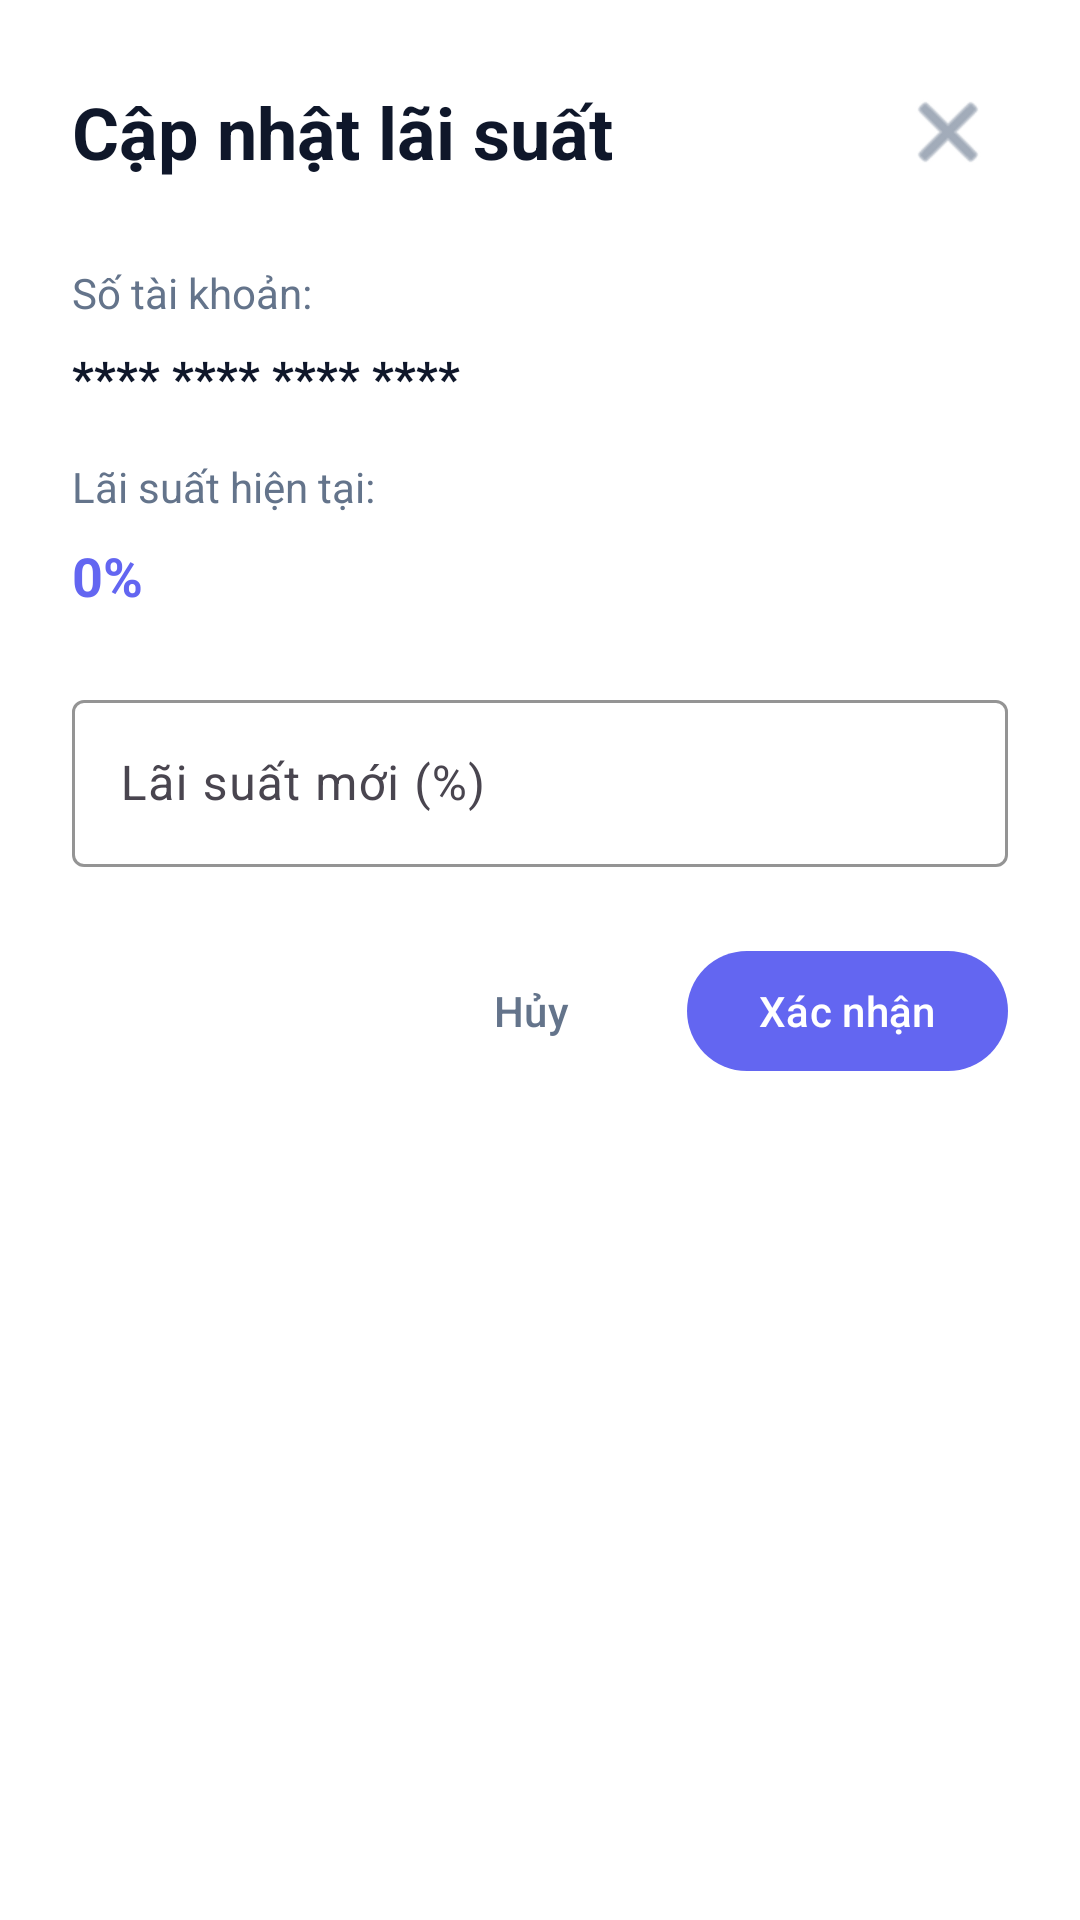

Point at icon controls on the screen. Image size 1080 × 1920, points as [x,y].
Close: [948,132]
